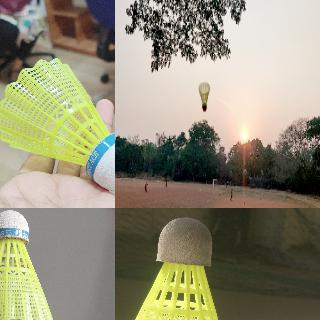shuttlecock: (0, 56, 114, 190), (115, 217, 235, 319), (0, 210, 55, 319), (198, 82, 210, 111)
